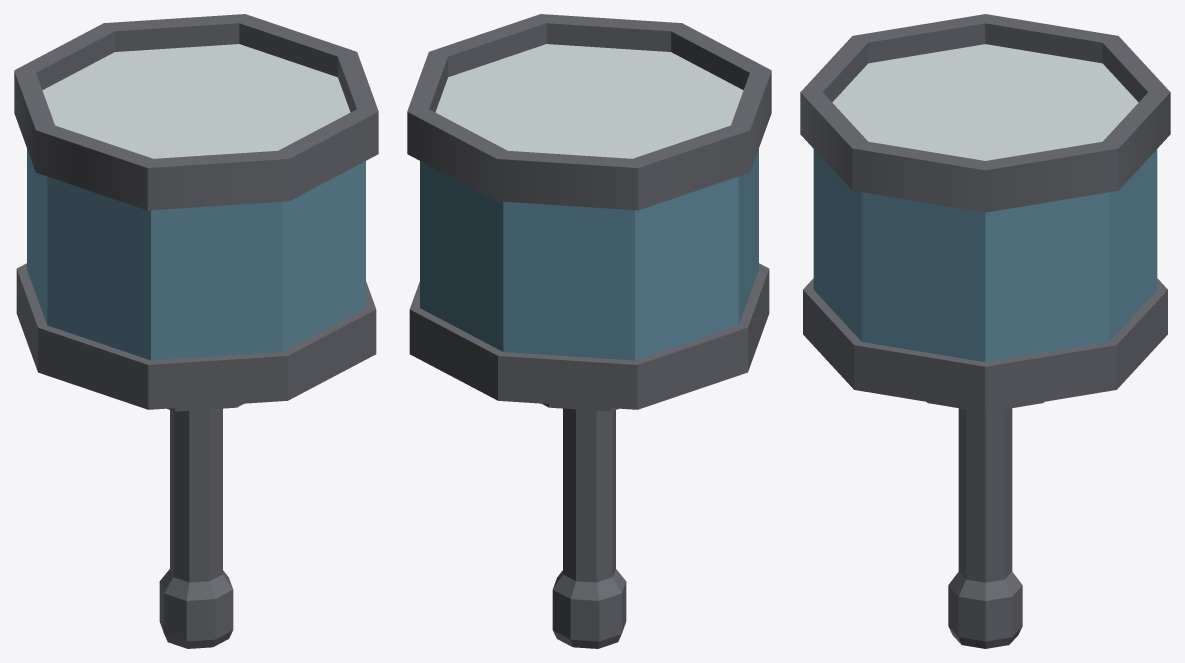
File: DrumsetSide.fbx
3 views of the same model, side by side, from view 1: azimuth 30°, elevation 25°; view 2: azimuth 150°, elevation 25°; view 3: azimuth 270°, elevation 25° (orthographic).
Visible parts, largest first — view 1: Side_Drum; view 2: Side_Drum; view 3: Side_Drum.
Part boxes in pixels (box(x1,y1,x2,y2)): Side_Drum: box(14, 14, 378, 648); Side_Drum: box(407, 14, 771, 648); Side_Drum: box(800, 14, 1170, 648).
Bounding box in the file's own units: 36.24 × 58.65 × 36.24.
